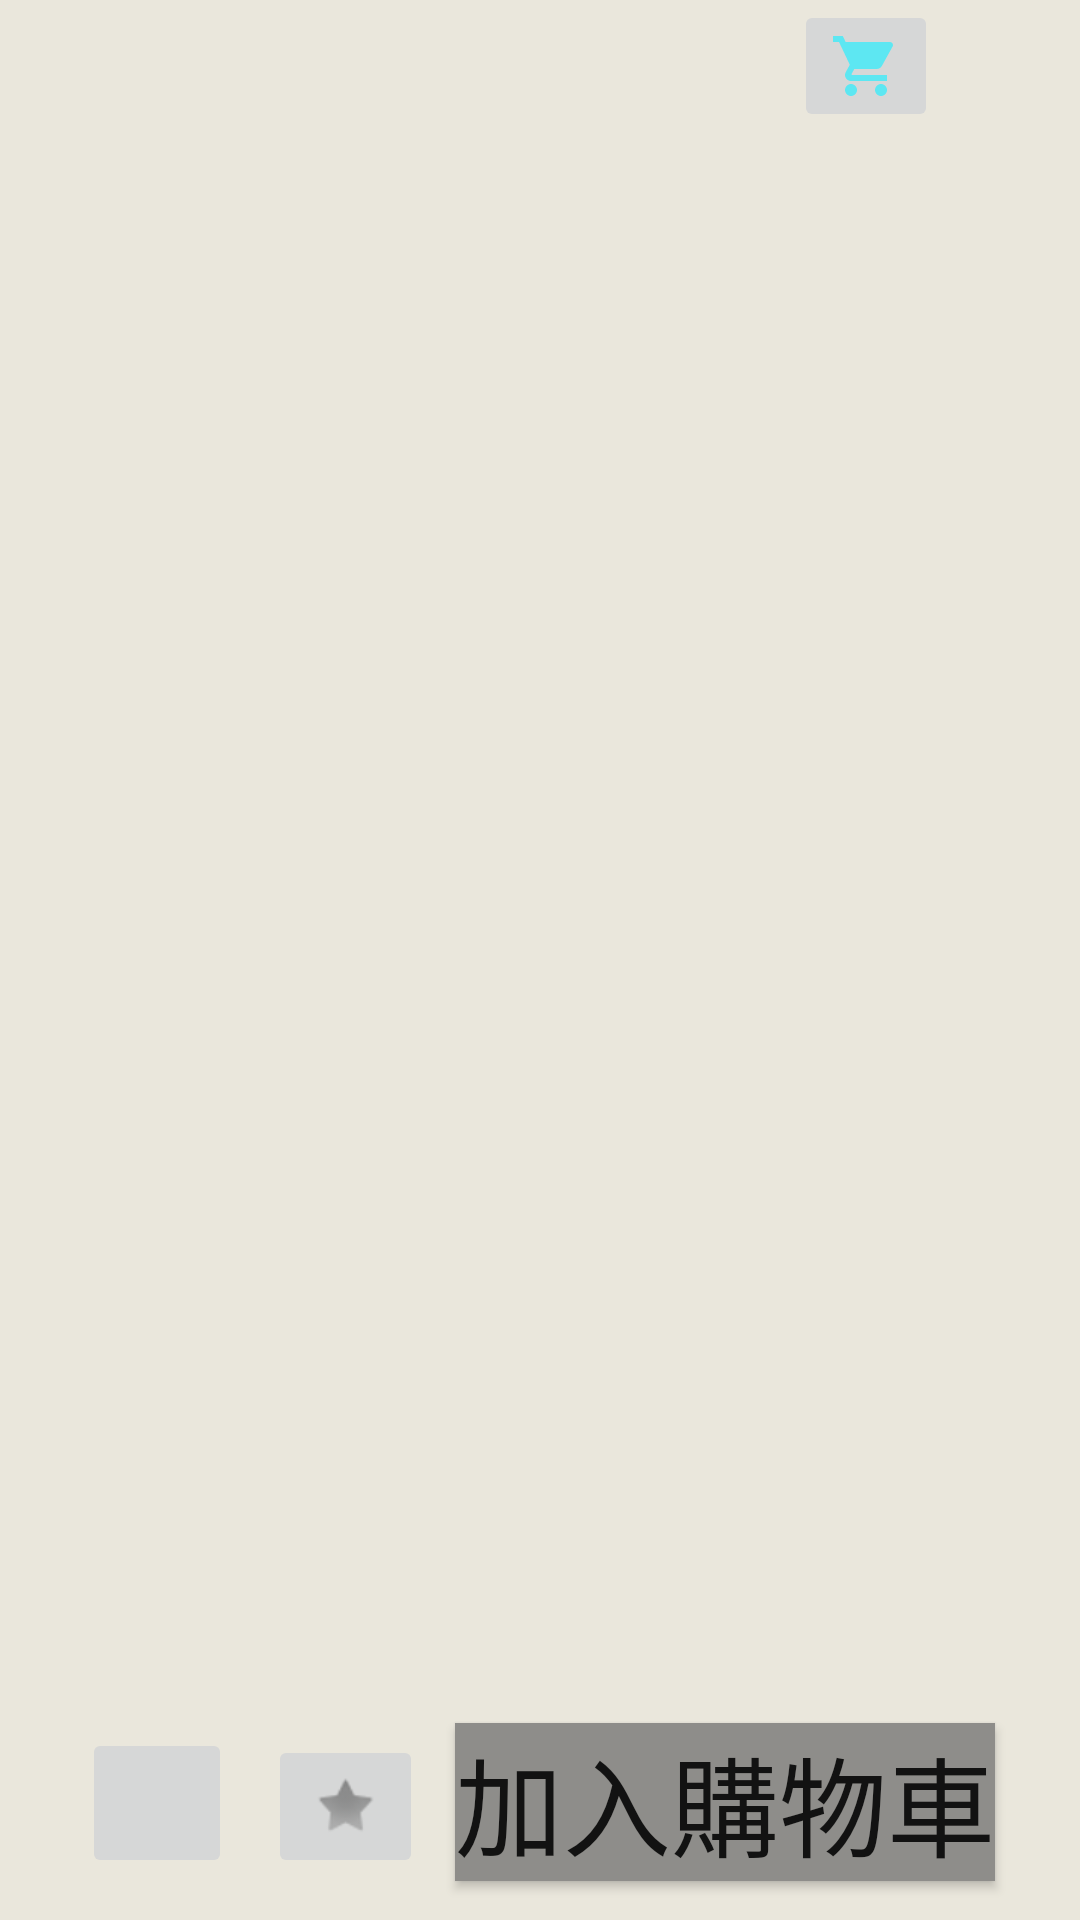

Locate icon controls on the screen. Image size 1080px×1920px, boxes as bbox=[x1, y1, x2, y2].
shopping cart: bbox=[806, 18, 926, 114]
star off: bbox=[318, 1778, 374, 1832]
